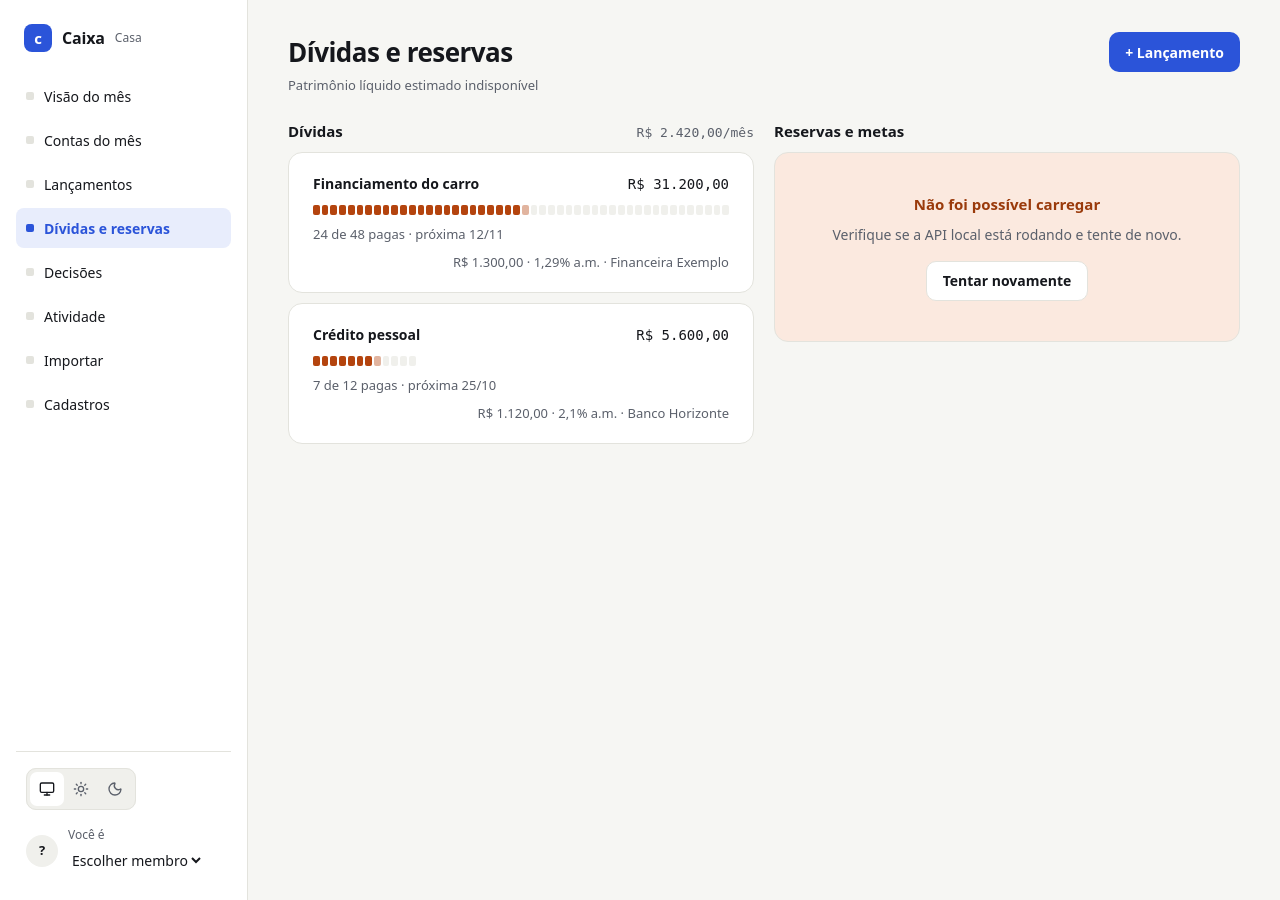
Scenario: retries a section that failed without hiding the others
This screenshot has width=1280, height=900.
Expected: the text "Patrimônio líquido estimado indisponível" is shown, left=288, top=76, right=538, bottom=94
Expected: the picture named "24 de 48 parcelas pagas" is shown, left=313, top=205, right=729, bottom=215
Click the button "Tentar novamente". click: (1007, 280)
box: left=926, top=260, right=1088, bottom=300
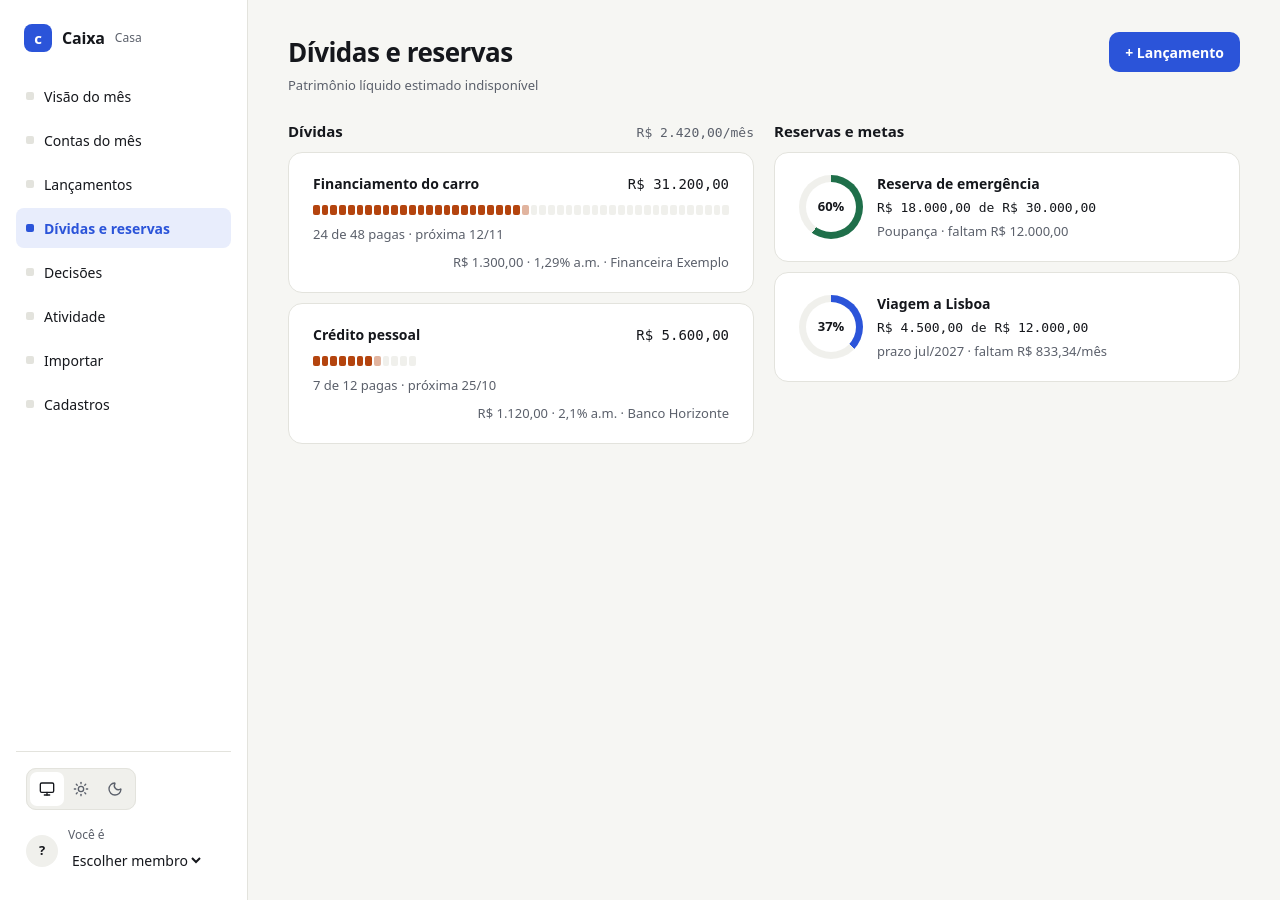
Now the picture named "37% da meta" is shown, box left=799, top=295, right=863, bottom=359
